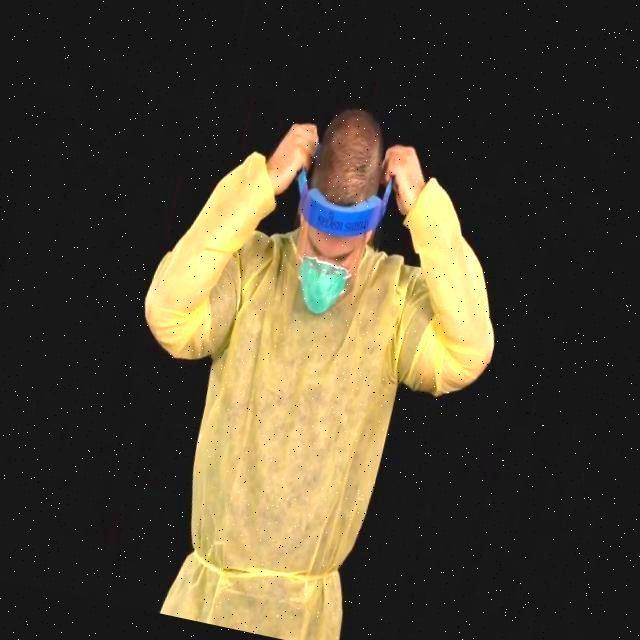mask: (296, 256, 348, 311)
no_apron: (265, 103, 317, 201), (388, 152, 426, 202)
no_gloves: (323, 102, 385, 198)
